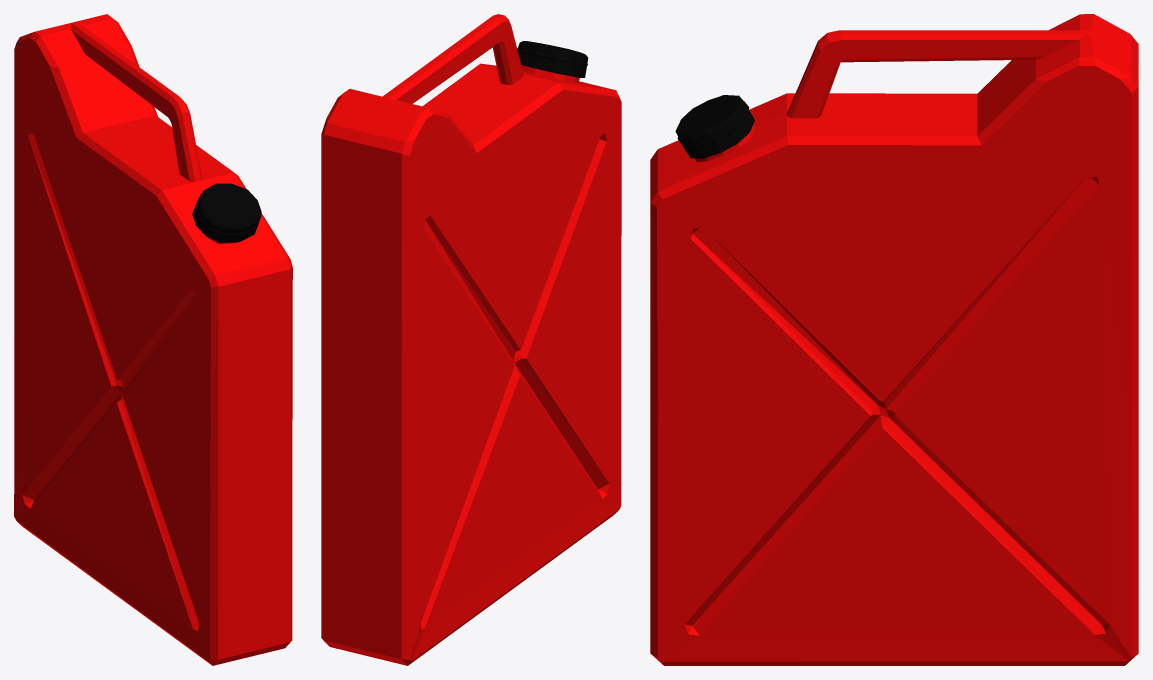
The model's file is Canister.fbx.
The picture shows the model from 3 angles, left to right: view 1: azimuth 30°, elevation 25°; view 2: azimuth 150°, elevation 25°; view 3: azimuth 270°, elevation 25°; orthographic projection. The views are drawn at different scales.
Parts seen in each view (by area): view 1: Plane.003; view 2: Plane.003; view 3: Plane.003.
Boxes of the visible parts, bbox=[...] form: Plane.003: bbox=[14, 14, 292, 665]; Plane.003: bbox=[321, 14, 621, 665]; Plane.003: bbox=[650, 14, 1138, 665].
Bounding box in the file's own units: 4.01 × 23.04 × 16.64.
